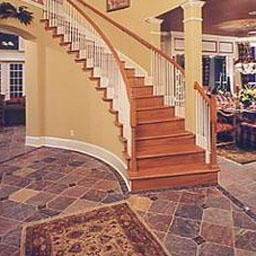Escaleras: (52, 12, 221, 193)
